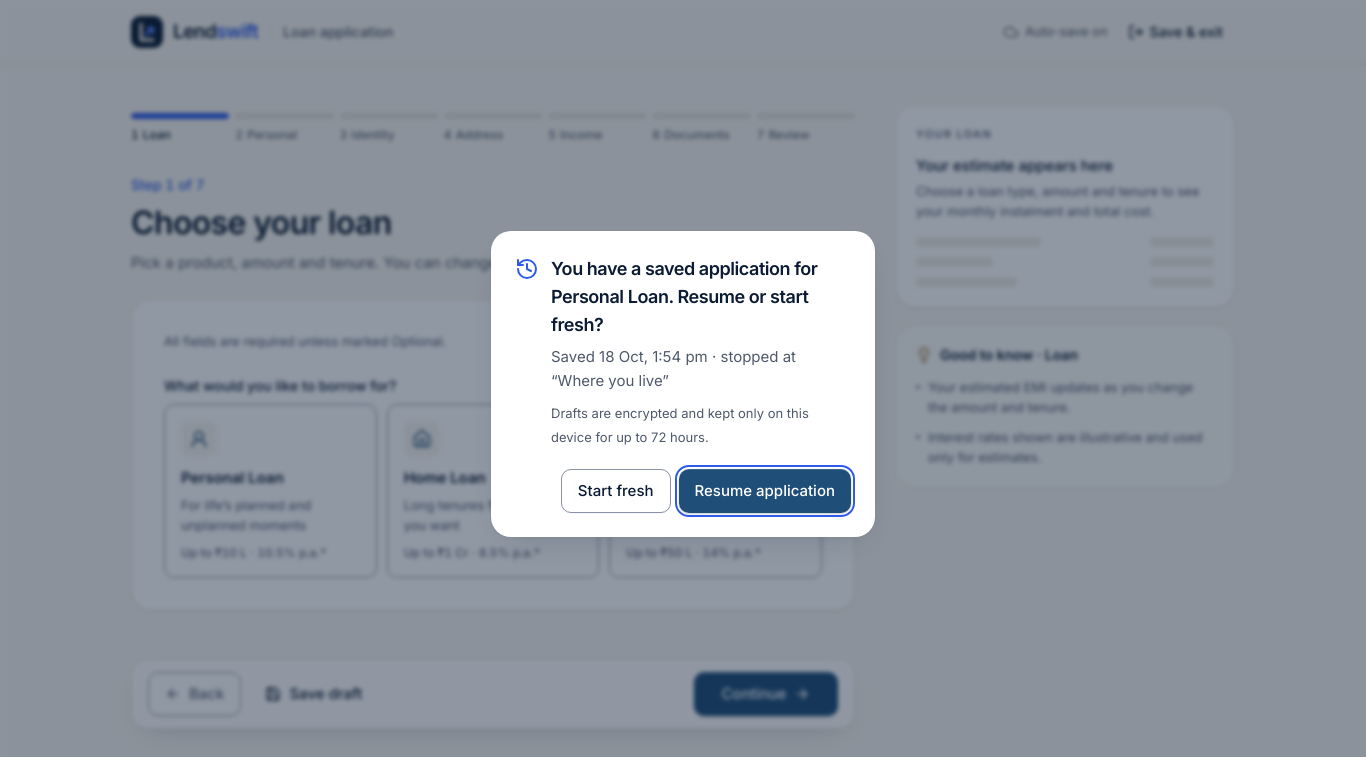
Test case: ApplicationWorkspace › restores the saved step when resuming
The image size is (1366, 757).
Click the button "Resume application". click: (765, 491)
box: [678,469,851,513]
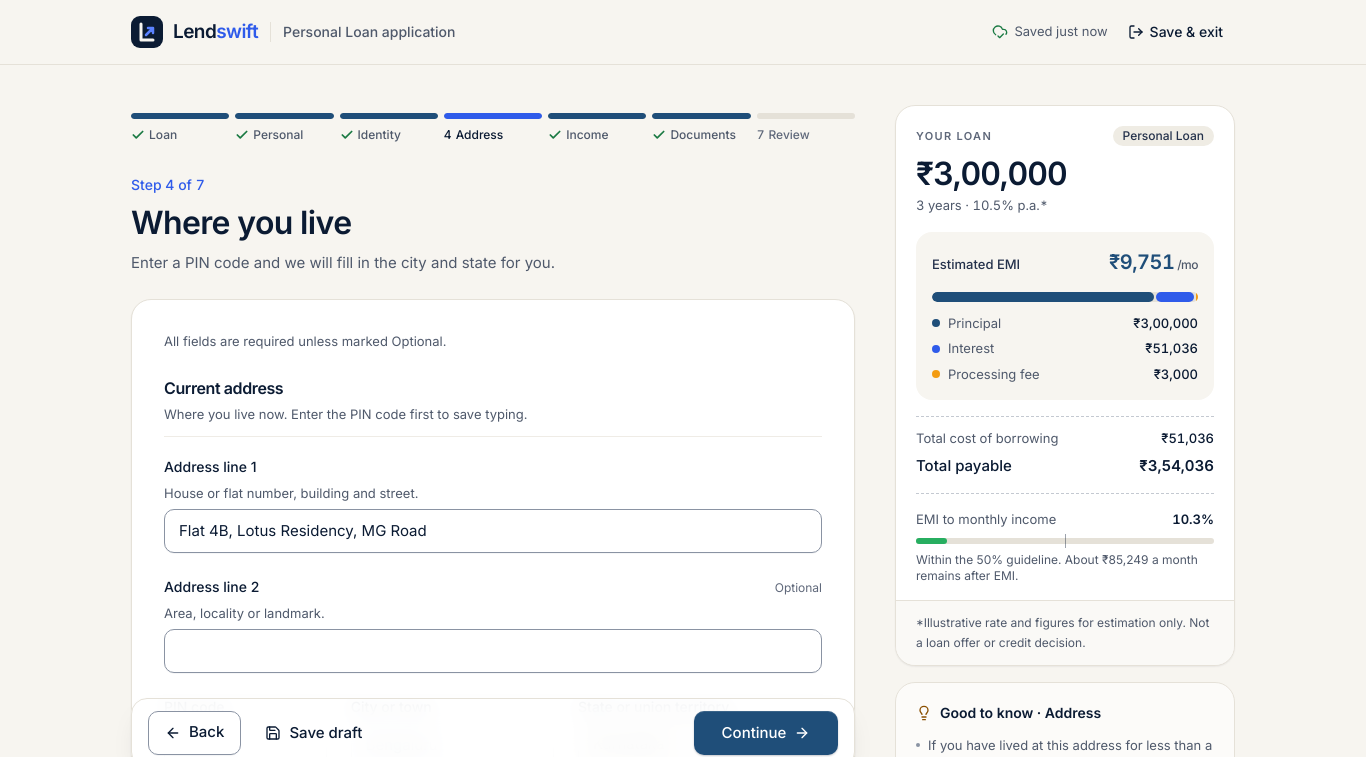
Check: the heading "Where you live" is shown, box [131,203,351,242]
